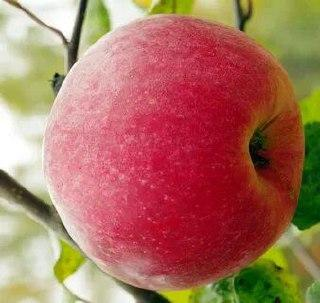Apple: (43, 13, 306, 294)
